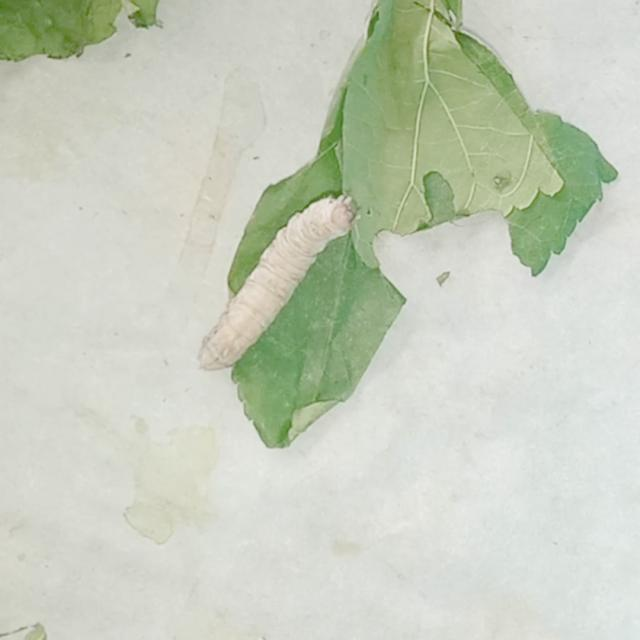Grasserie: (182, 159, 384, 387)
